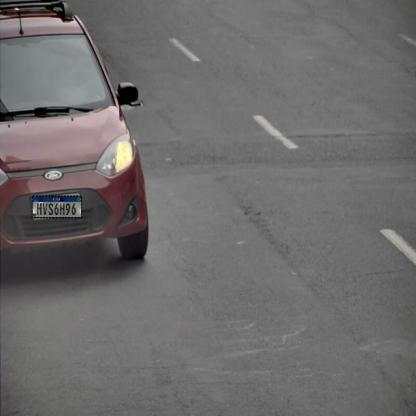PlacaM: (32, 196, 82, 218)
